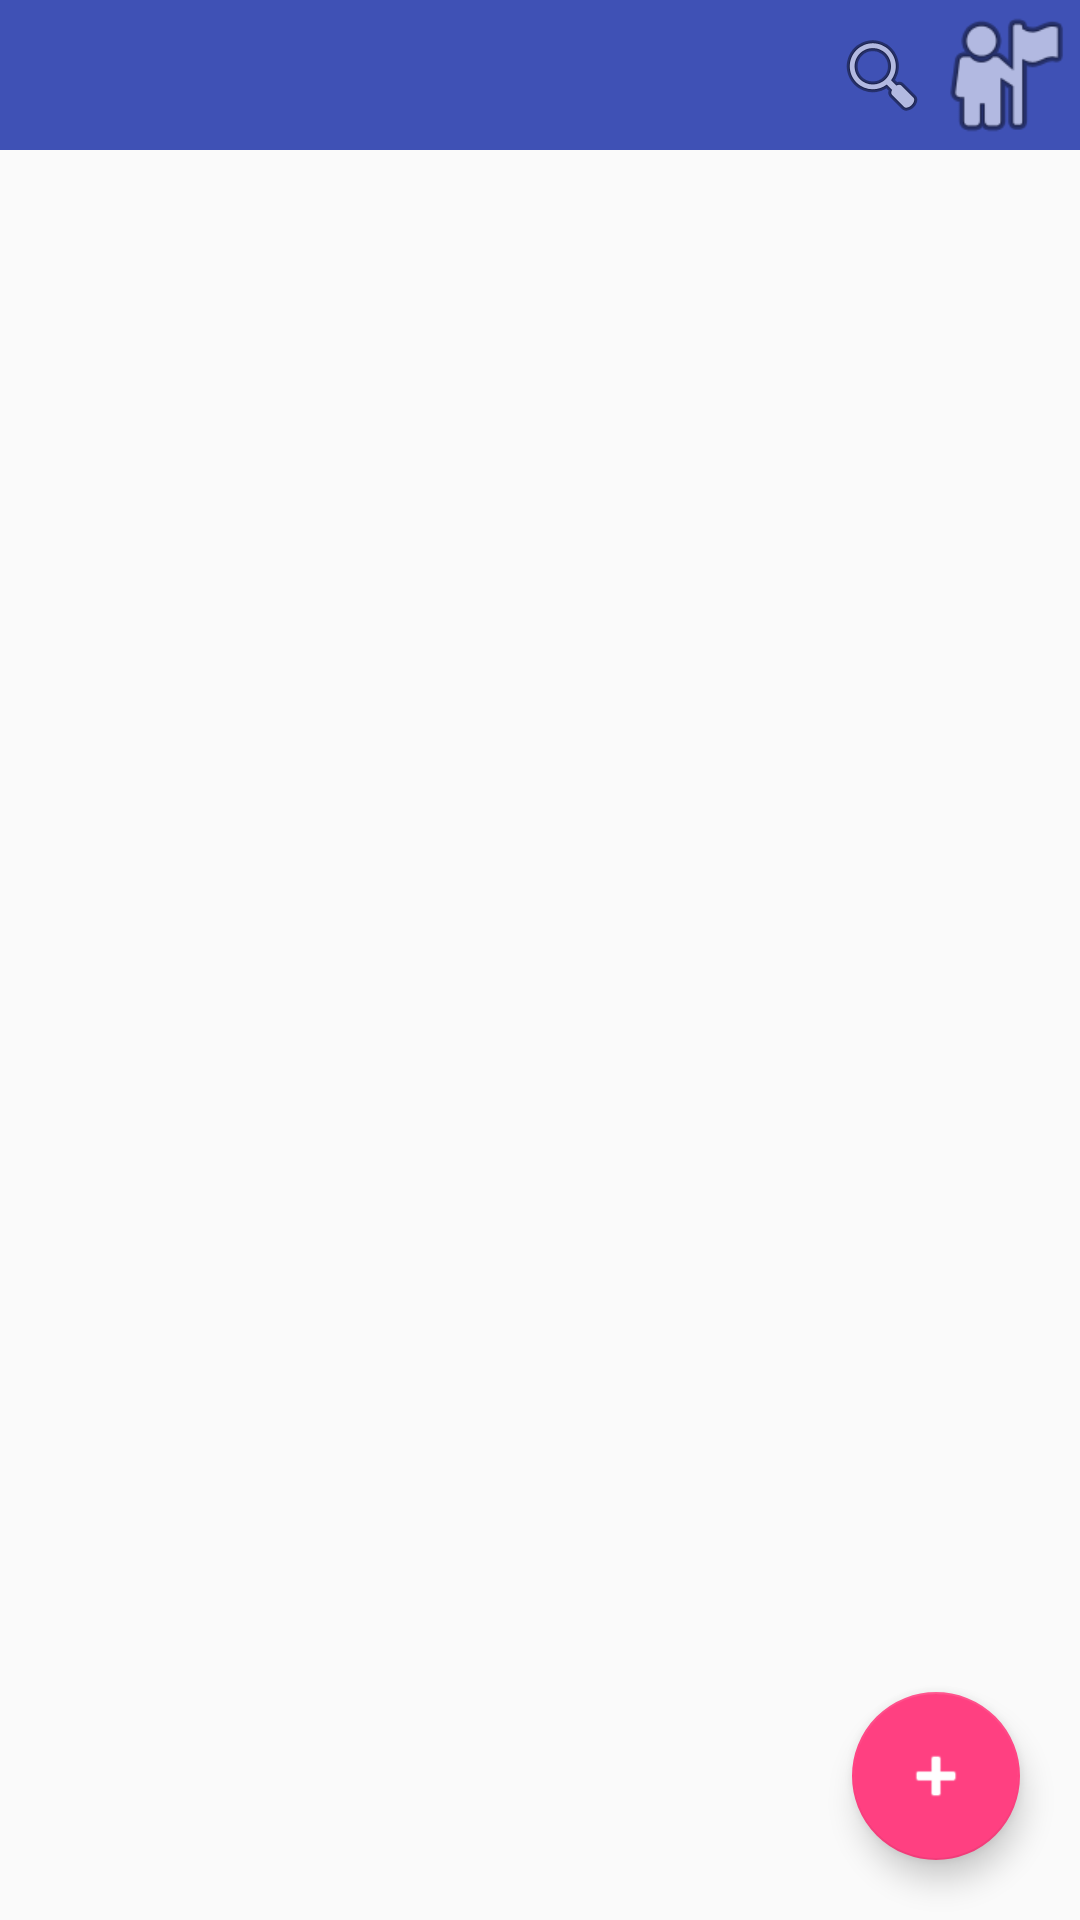

Icon click points for this 1080*1920 phone screenshot, format (x,y):
add: (936,1776)
myplaces: (1006,75)
search: (882,75)
